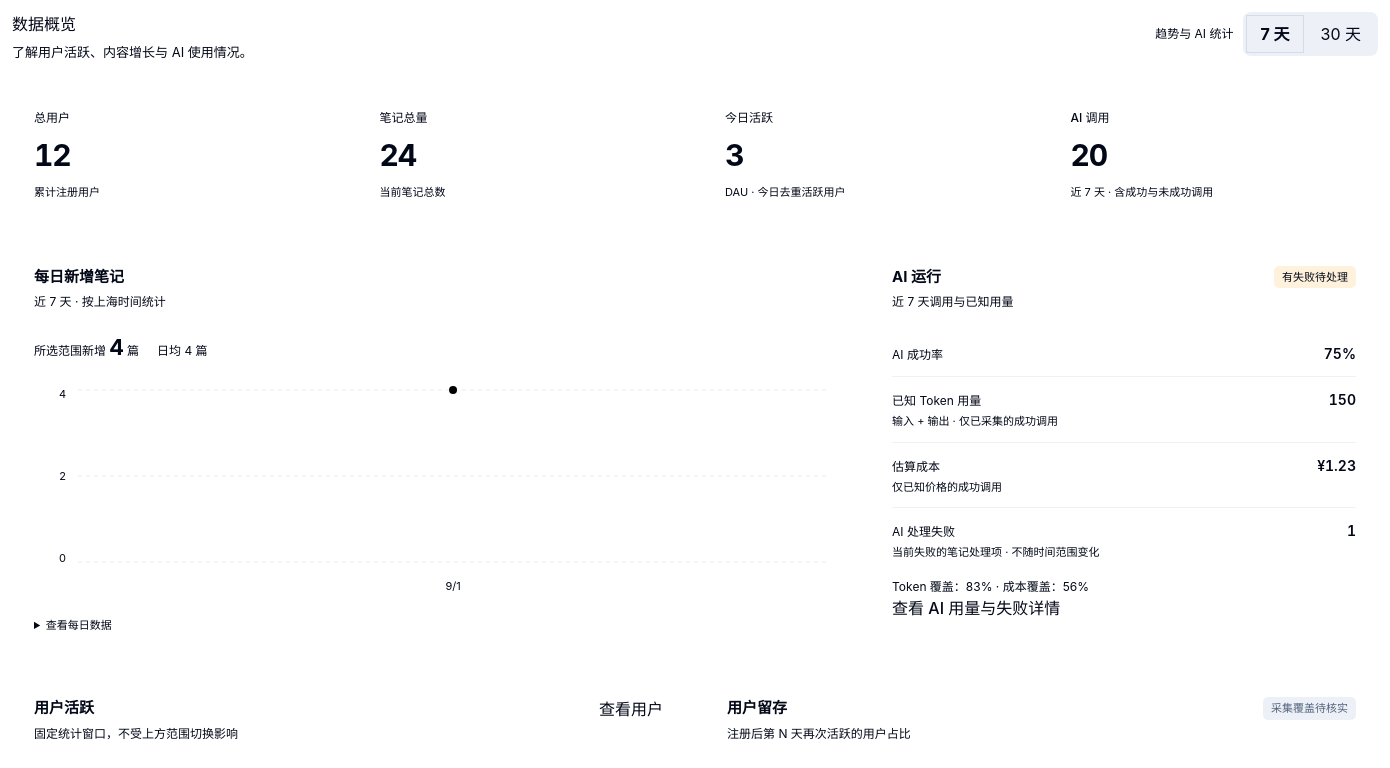
Test: AdminOverviewPage › keeps the successful range labeled correctly if the next range fails
The image size is (1390, 768).
Expected: the text "总用户" is shown, [34,110,70,124]
Click the button "30 天".
click(1341, 34)  # box [1306,15,1375,53]
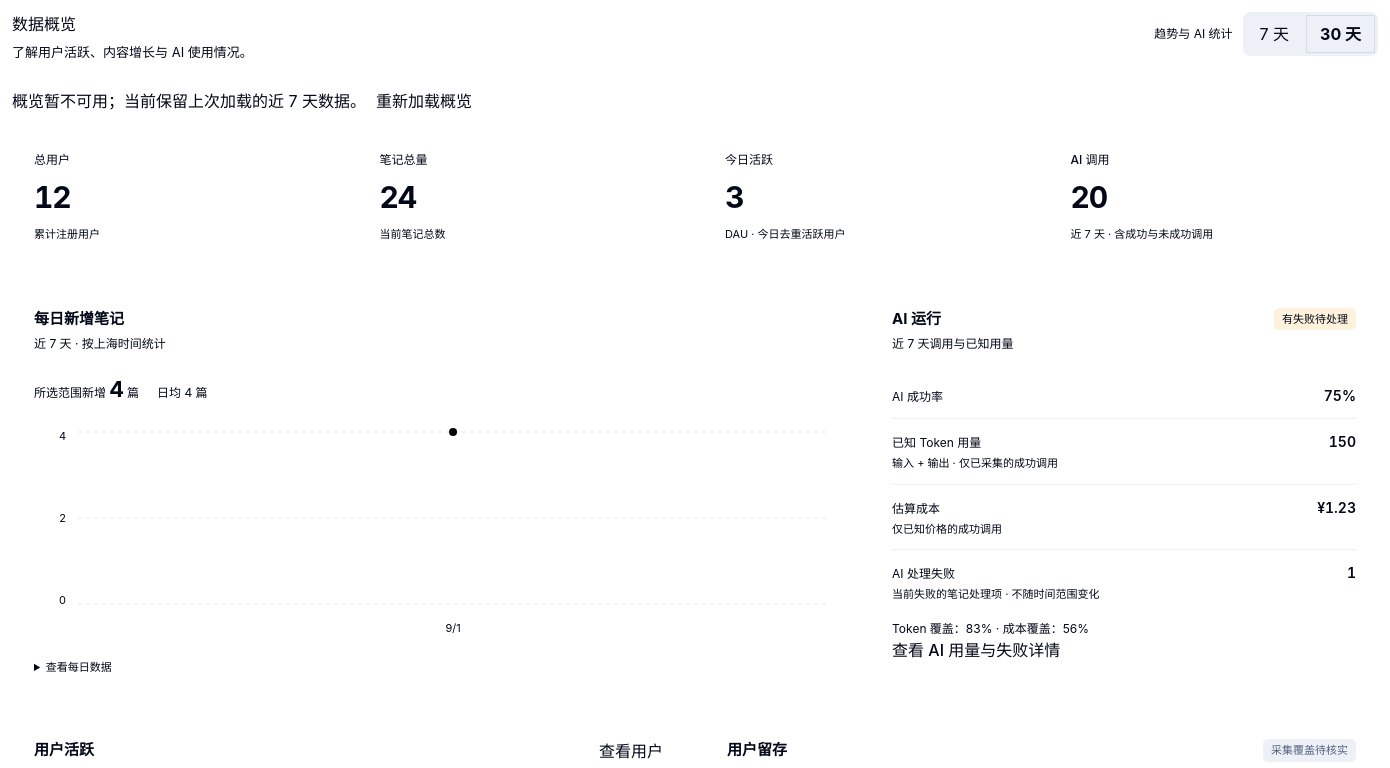
Expected: the text "近 7 天 · 按上海时间统计" is shown, [34,335,166,353]
Expected: the message shows "当前保留上次加载的近 7 天数据", [108,90,366,110]
